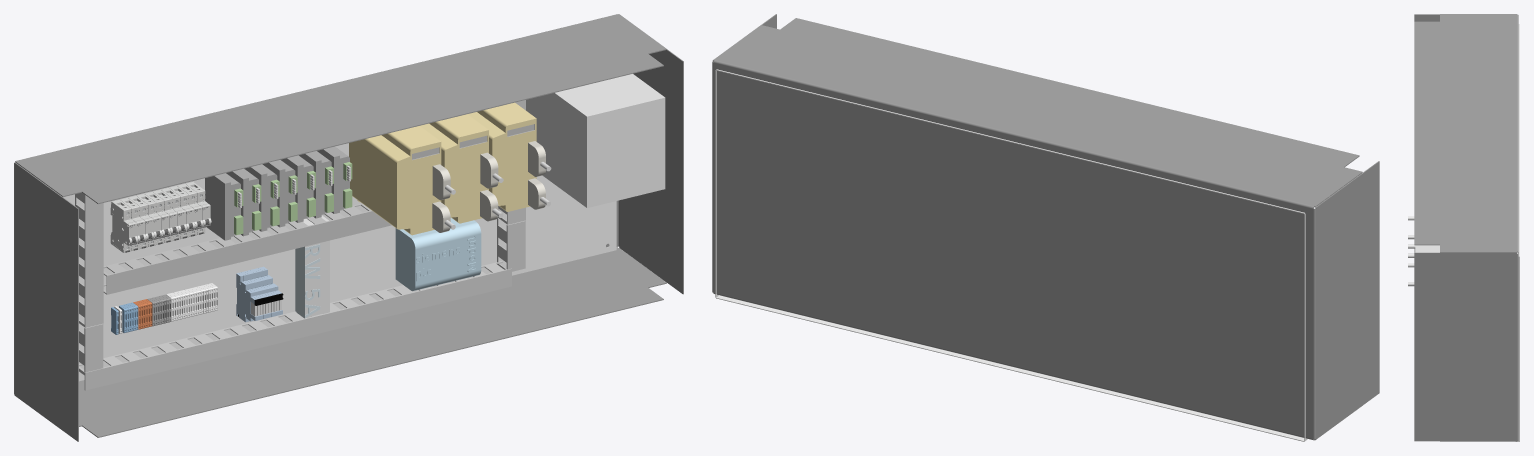
File: FlapMakinesi-v1.glb
The picture shows the model from 3 angles, left to right: view 1: azimuth 30°, elevation 25°; view 2: azimuth 150°, elevation 25°; view 3: azimuth 270°, elevation 25°; orthographic projection. The views are drawn at different scales.
Parts seen in each view (by area): view 1: FalpDÄ±sPano, ZarfsacÄ±_flap, ServoSurucu(sg-15A) (×3), AsenkronSurcu, 850Cm, StepSurucu(rsdv-542) (×7), 760Cm, siemens_plc(s71200), 30Cm, MRW 5A, 10Cm (×2), modul(s71200) (+2 smaller); view 2: FalpDÄ±sPano, ZarfsacÄ±_flap; view 3: FalpDÄ±sPano, ZarfsacÄ±_flap, AsenkronSurcu.
Boxes of the visible parts, x1,y1,x2,y2 form: FalpDÄ±sPano: (14, 14, 683, 441); ZarfsacÄ±_flap: (63, 143, 616, 381); ServoSurucu(sg-15A) (×3): (349, 102, 551, 235); AsenkronSurcu: (526, 74, 665, 207); 850Cm: (79, 261, 511, 390); StepSurucu(rsdv-542) (×7): (205, 146, 352, 240); 760Cm: (103, 203, 391, 294); siemens_plc(s71200): (395, 227, 460, 291); 30Cm: (75, 192, 103, 327); MRW 5A: (295, 215, 329, 318); 10Cm (×2): (79, 218, 525, 375); modul(s71200): (450, 218, 481, 279); FalpDÄ±sPano: (712, 14, 1379, 440); ZarfsacÄ±_flap: (715, 69, 1307, 441); FalpDÄ±sPano: (1414, 14, 1518, 441); ZarfsacÄ±_flap: (1516, 24, 1519, 441); AsenkronSurcu: (1415, 245, 1439, 252).
Bounding box in the file's own units: 1.33 × 0.4994 × 0.264.
